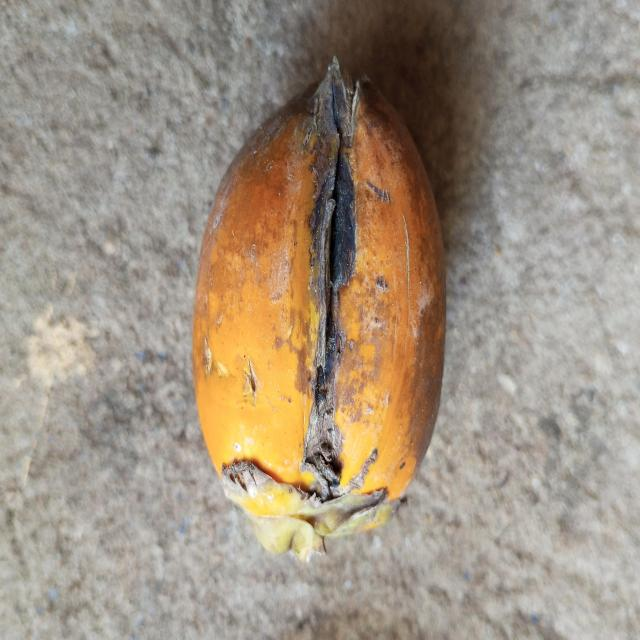damaged: (191, 60, 447, 559)
